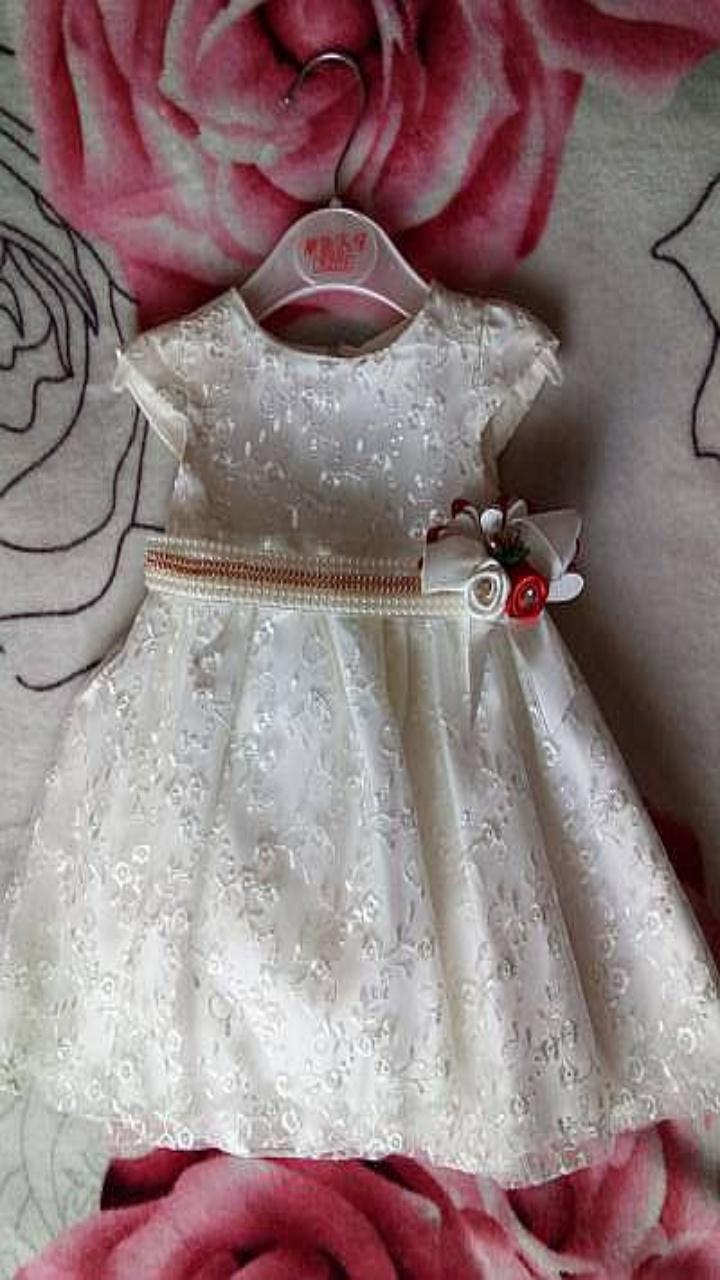Dresses: (0, 572, 719, 1183)
